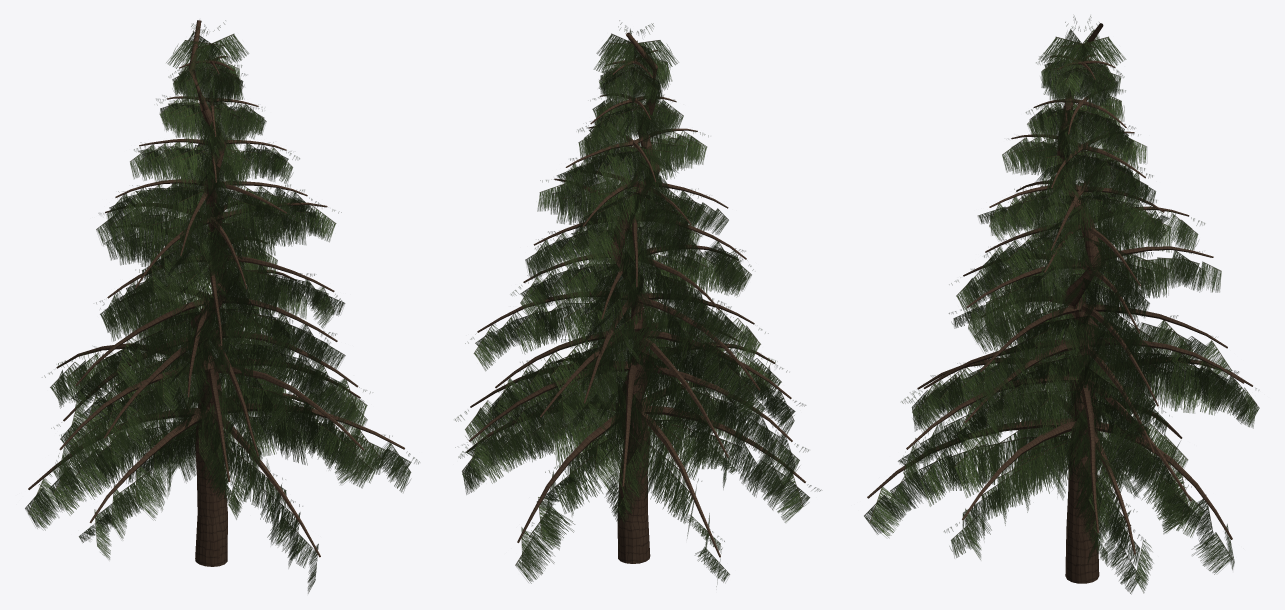
File: pino.glb
The picture shows the model from 3 angles, left to right: view 1: azimuth 30°, elevation 25°; view 2: azimuth 150°, elevation 25°; view 3: azimuth 270°, elevation 25°; orthographic projection. The views are drawn at different scales.
Visible parts, largest first — view 1: Pino_Agujas, Pino_Tronco; view 2: Pino_Agujas, Pino_Tronco; view 3: Pino_Agujas, Pino_Tronco.
Part boxes in pixels (x1,y1,x2,y2): Pino_Agujas: [25, 20, 419, 593]; Pino_Tronco: [28, 20, 404, 566]; Pino_Agujas: [455, 20, 820, 586]; Pino_Tronco: [467, 32, 805, 563]; Pino_Agujas: [864, 16, 1259, 594]; Pino_Tronco: [867, 23, 1252, 583].
Size of the model in its own units: 6.08 by 9.24 by 6.33.
Materials: 2 (2 with a texture image).
